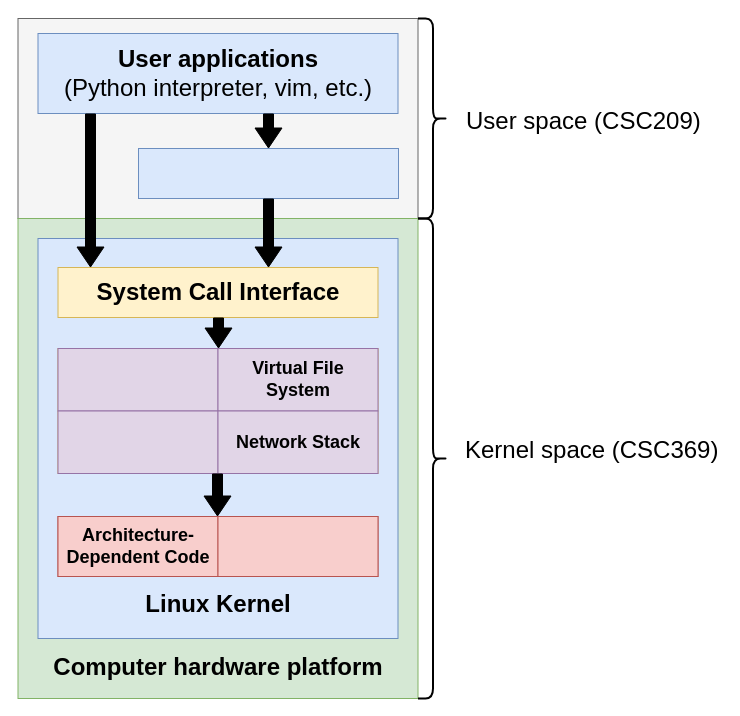
Image size: 740x716. Some labels were removed from this diagram. Each missing label, with the centre of its shape:
"Device Drivers" belongs at pixel 297 546.
"GNU C Library (glibc)" belongs at pixel 268 173.
"Memory Management" belongs at pixel 137 442.
"Process Management" belongs at pixel 137 379.
